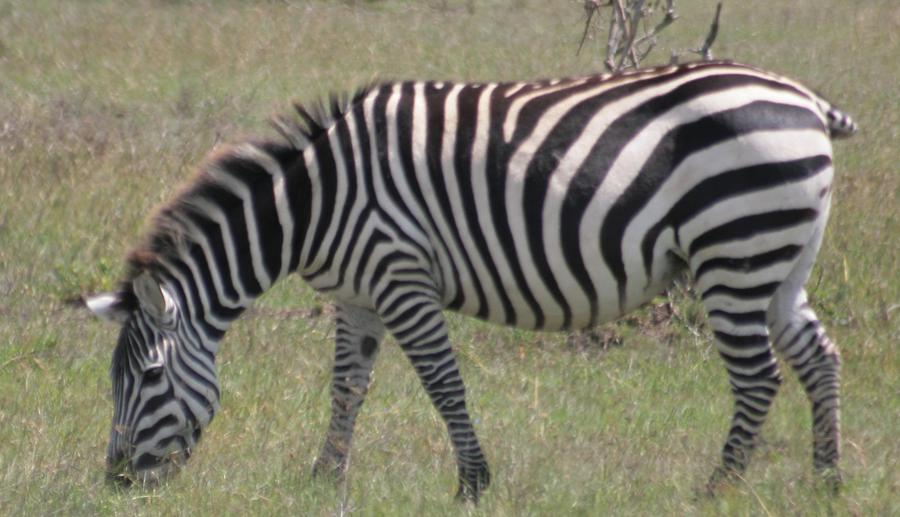zebra_plains: (313, 58, 815, 314)
